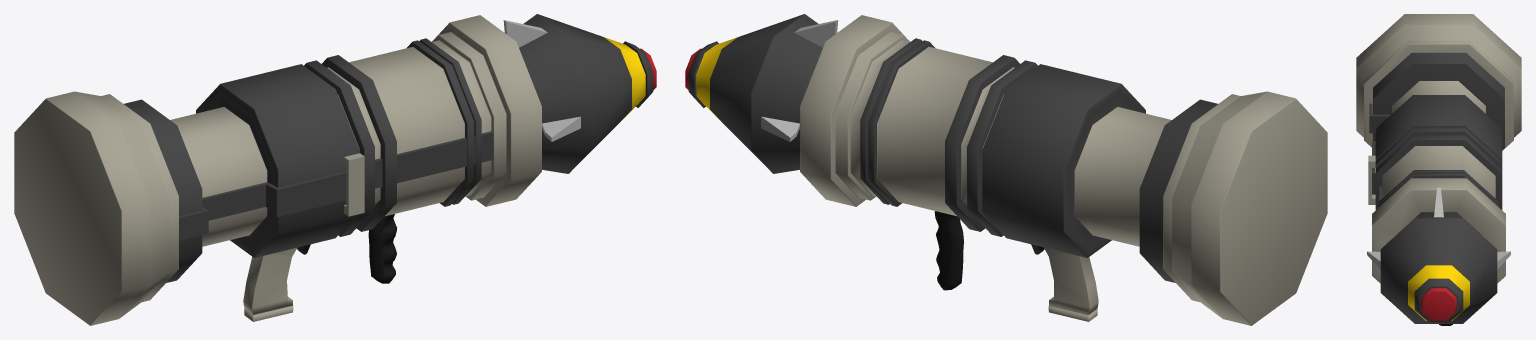
File: futuristic_Bazooka.fbx
3 renders of one model, left to right at view 1: azimuth 30°, elevation 25°; view 2: azimuth 150°, elevation 25°; view 3: azimuth 270°, elevation 25°, orthographic. The views are drawn at different scales.
Parts seen in each view (by area): view 1: Cylinder, Cylinder.001; view 2: Cylinder, Cylinder.001; view 3: Cylinder, Cylinder.001.
Part boxes in pixels (box(x1,y1,x2,y2)): Cylinder: box(14, 15, 541, 325); Cylinder.001: box(503, 14, 656, 173); Cylinder: box(800, 15, 1327, 325); Cylinder.001: box(685, 14, 838, 173); Cylinder: box(1356, 14, 1521, 325); Cylinder.001: box(1367, 187, 1510, 323).
Bounding box in the file's own units: 437 × 179 × 141.
